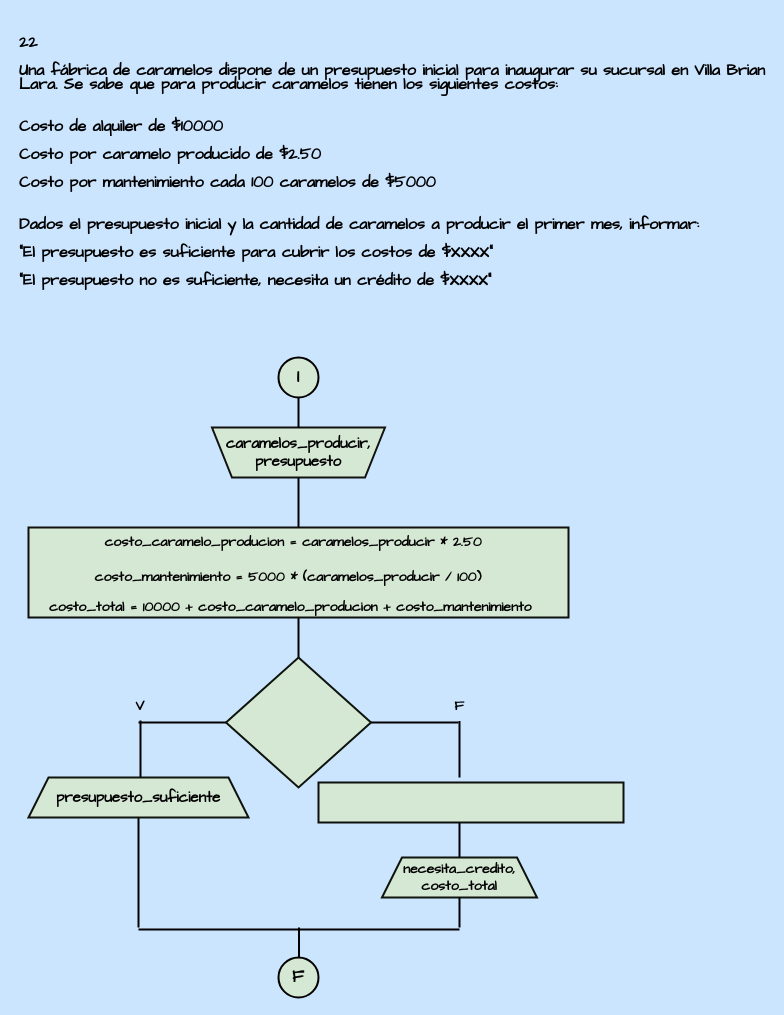
Some shapes in this 784 by 1015 pixel diagram are drawn without their labels. The centre of each missing label's shape, as x and y in pixels:
"costo_total = costo_total - presupuesto" goes at (x=470, y=802).
"presupuesto >= costo_total" goes at (x=298, y=722).
